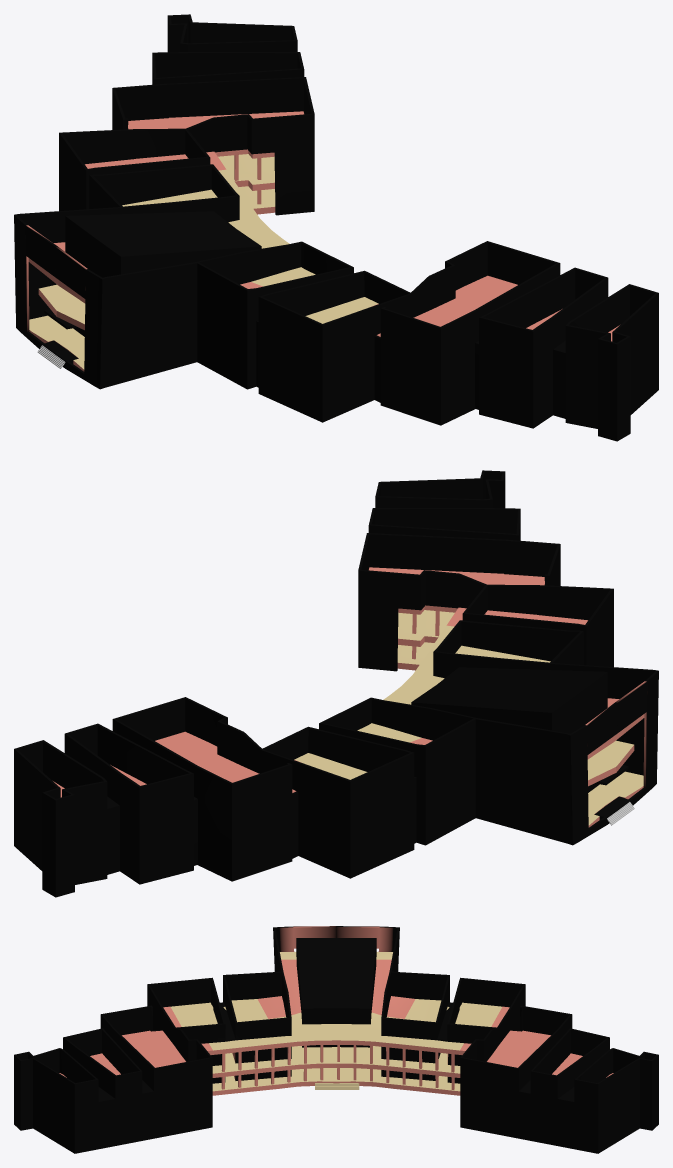
The model's file is LHTC.fbx.
3 views of the same model, one above another, from view 1: azimuth 30°, elevation 25°; view 2: azimuth 150°, elevation 25°; view 3: azimuth 270°, elevation 25° (orthographic). The views are drawn at different scales.
Visible parts, largest first — view 1: main build, levels; view 2: main build, levels; view 3: main build, levels, Cube.001.
Boxes of the visible parts, x1,y1,x2,y2 form: main build: (14,14,658,441); levels: (28,111,619,371); main build: (14,470,658,897); levels: (53,567,644,827); main build: (14,926,658,1153); levels: (59,952,613,1095); Cube.001: (221,1045,454,1089).
Bounding box in the file's own units: 13604 × 3503 × 24797.
